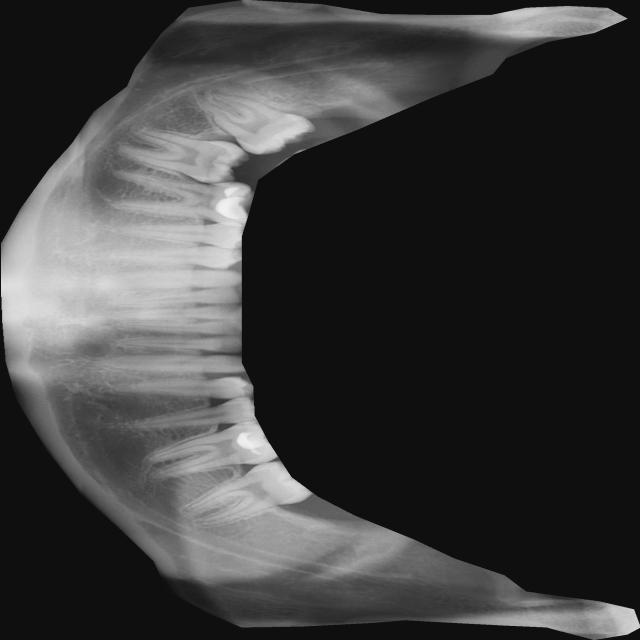mandibula: (0, 0, 640, 640)
